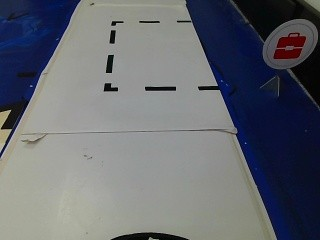company: (260, 16, 318, 71)
